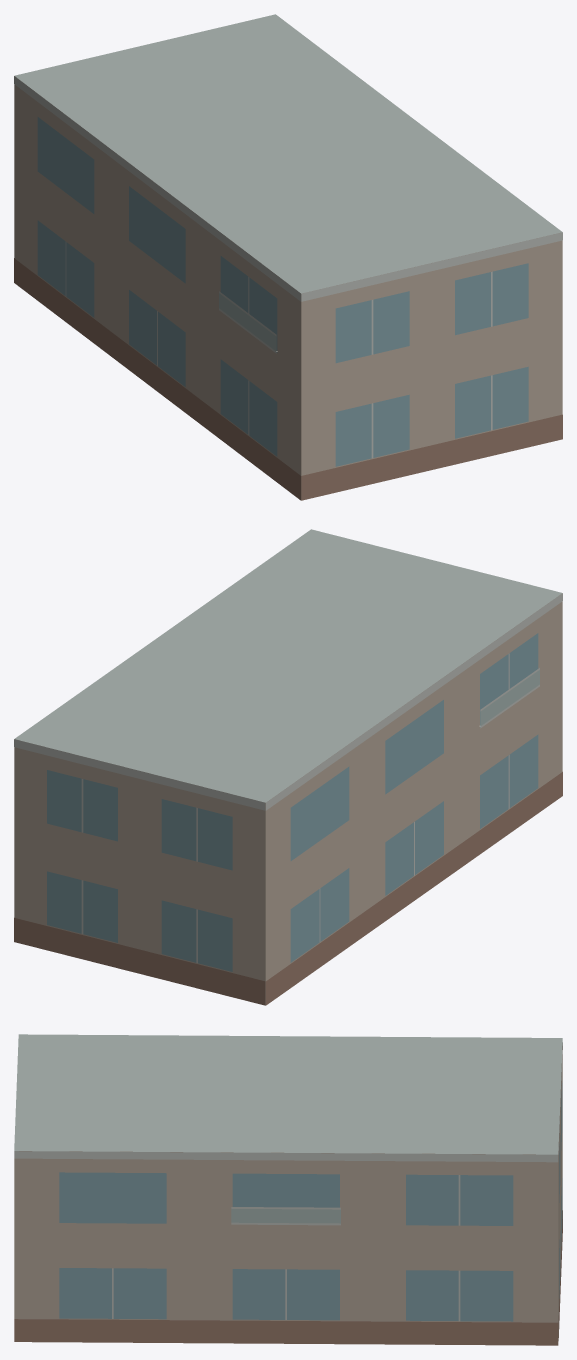
The model's file is survey-upis-32838826.glb.
The picture shows the model from 3 angles, top to bottom: view 1: azimuth 30°, elevation 25°; view 2: azimuth 150°, elevation 25°; view 3: azimuth 270°, elevation 25°; orthographic projection. The views are drawn at different scales.
Parts seen in each view (by area): view 1: survey-upis-32838826.tmp; view 2: survey-upis-32838826.tmp; view 3: survey-upis-32838826.tmp.
Part boxes in pixels (bbox=[...]): survey-upis-32838826.tmp: bbox=[14, 14, 562, 500]; survey-upis-32838826.tmp: bbox=[14, 529, 562, 1005]; survey-upis-32838826.tmp: bbox=[14, 1034, 562, 1345].
Bounding box in the file's own units: 8.26 × 6.1 × 15.9.
